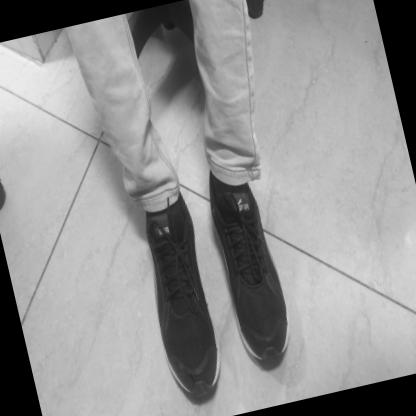ankle: (176, 219, 181, 224), (218, 201, 221, 204)
heel: (210, 177, 213, 180), (181, 197, 184, 200)
left_foot: (127, 184, 235, 411)
pinky: (281, 318, 286, 323), (171, 352, 174, 358)
right_foot: (201, 158, 300, 373)
toe: (212, 356, 216, 361), (252, 336, 255, 341)
